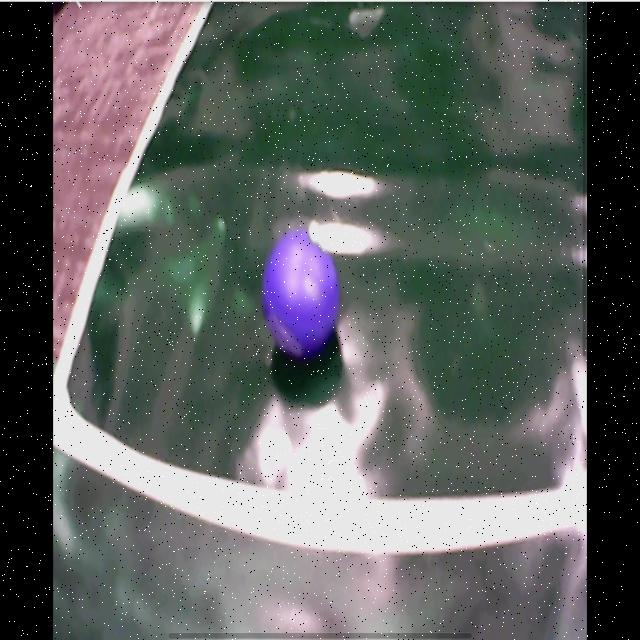ball: (264, 236, 340, 356)
